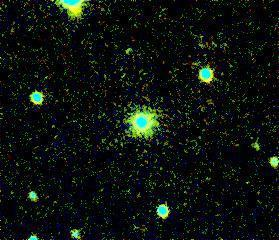star: (115, 36, 145, 66)
